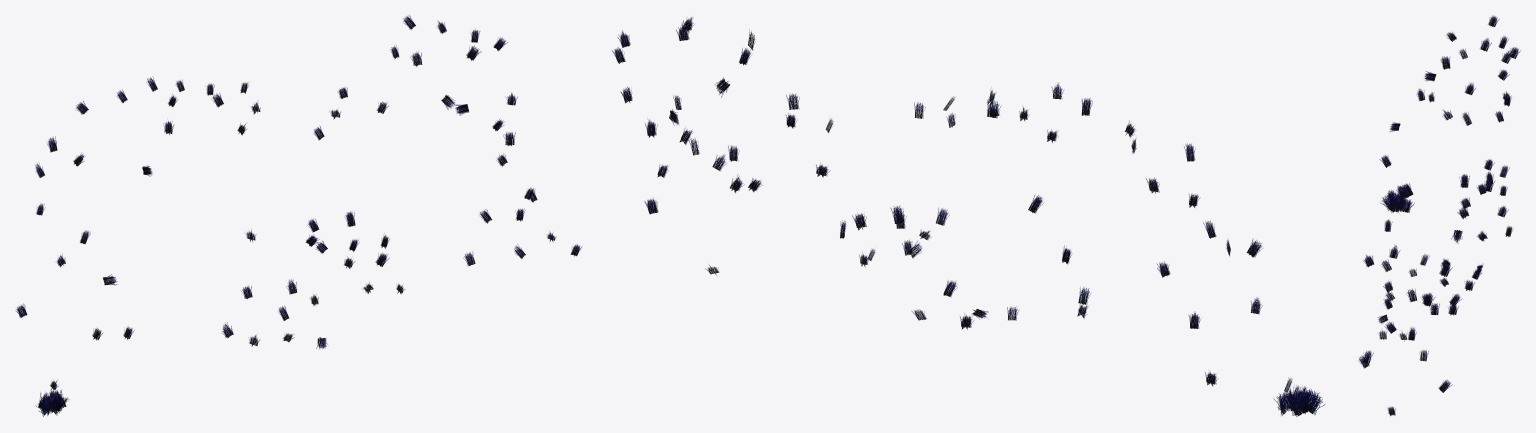
The model's file is algae_tufts.glb.
3 views of the same model, side by side, from view 1: azimuth 30°, elevation 25°; view 2: azimuth 150°, elevation 25°; view 3: azimuth 270°, elevation 25° (orthographic). The views are drawn at different scales.
Parts seen in each view (by area): view 1: Cards, ClumpLeft; view 2: Cards, ClumpLeft; view 3: Cards, ClumpLeft.
Boxes of the visible parts, x1,y1,x2,y2 form: Cards: (15,15,582,390); ClumpLeft: (35,389,68,416); Cards: (612,17,1292,392); ClumpLeft: (1273,386,1325,416); Cards: (1358,15,1520,416); ClumpLeft: (1380,189,1414,212).
Bounding box in the file's own units: 116 × 51.91 × 33.
Materials: 2 (2 with a texture image).
